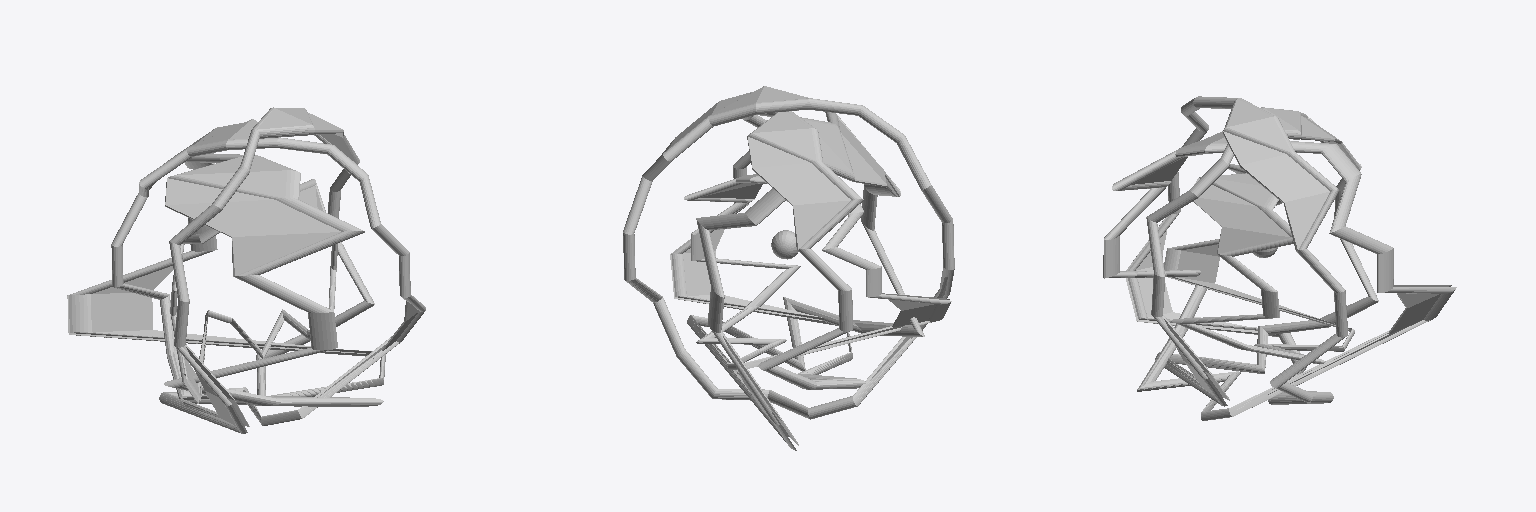
File: thing.obj
3 views of the same model, side by side, from view 1: azimuth 30°, elevation 25°; view 2: azimuth 150°, elevation 25°; view 3: azimuth 270°, elevation 25° (orthographic).
Parts seen in each view (by area): view 1: pTorus7, pTorus8, pTorus5, pTorus6; view 2: pTorus5, pTorus8, pTorus7, pTorus6, pSphere2; view 3: pTorus8, pTorus7, pTorus6, pTorus5.
Part boxes in pixels (x1,y1,x2,y2): pTorus7: (67, 153, 385, 406); pTorus8: (159, 107, 374, 433); pTorus5: (111, 119, 425, 425); pTorus6: (170, 179, 337, 403); pTorus5: (670, 111, 865, 389); pTorus8: (623, 86, 954, 419); pTorus7: (687, 112, 924, 450); pTorus6: (684, 174, 951, 369); pSphere2: (771, 230, 798, 259); pTorus8: (1126, 96, 1347, 404); pTorus7: (1103, 131, 1456, 420); pTorus6: (1164, 164, 1354, 363); pTorus5: (1146, 107, 1378, 406).
Bounding box in the file's own units: 65.42 × 69.02 × 74.91.